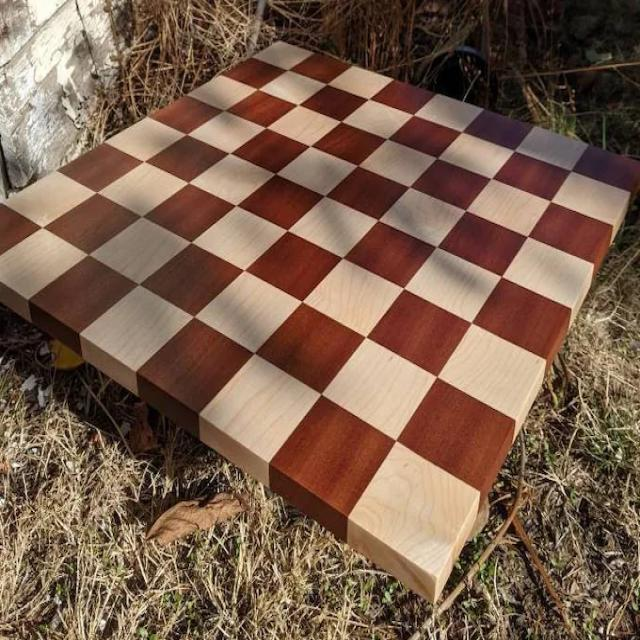chess-table-corners: (403, 545, 478, 611), (261, 22, 309, 62), (611, 142, 640, 196)
